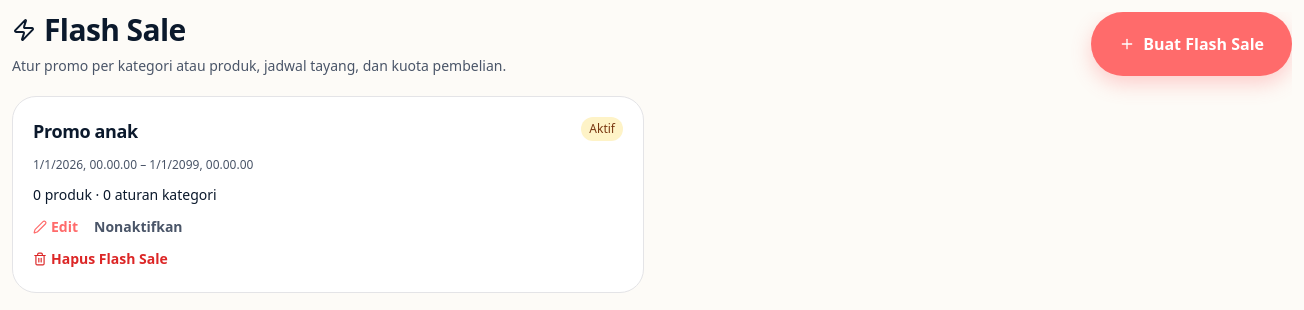
Test: confirmed deletion removes the campaign from admin
This screenshot has width=1304, height=310.
Click the button with test id "delete-flash-sale": [100, 259] box [33,249,168,269]
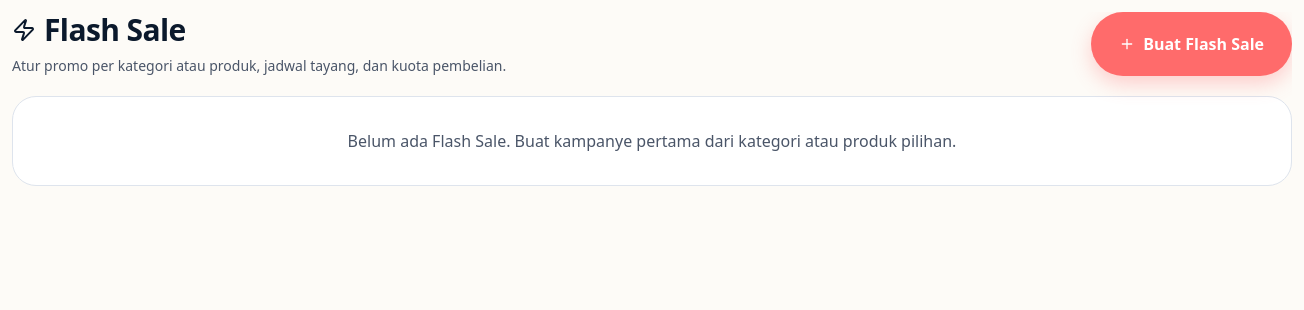
Expected: the element with test id "flash-sale" is gone
